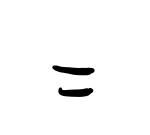eqv: (51, 63, 95, 98)
